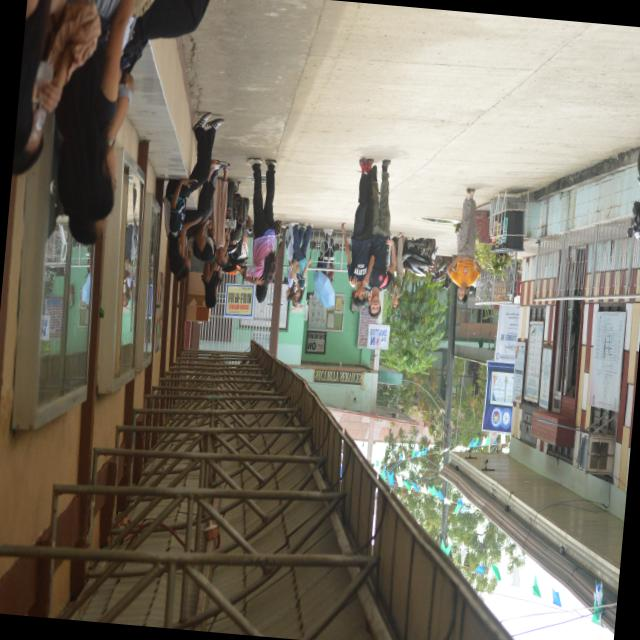person: (12, 0, 101, 174), (165, 112, 224, 273), (241, 158, 276, 301), (342, 158, 374, 308), (368, 159, 396, 317), (448, 188, 481, 303), (291, 221, 312, 303), (389, 232, 407, 308)
